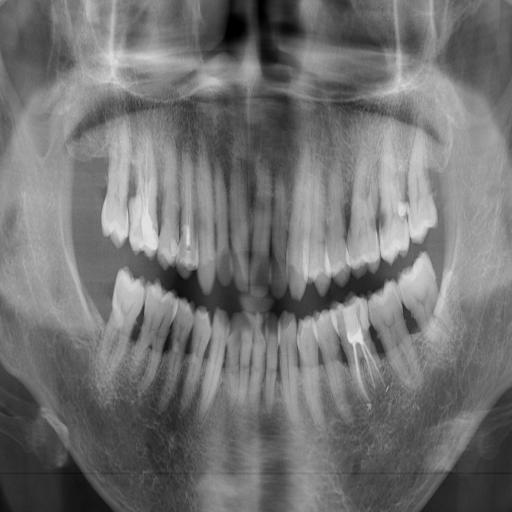Wisdom teeth: (408, 134, 437, 242), (399, 254, 437, 327)
